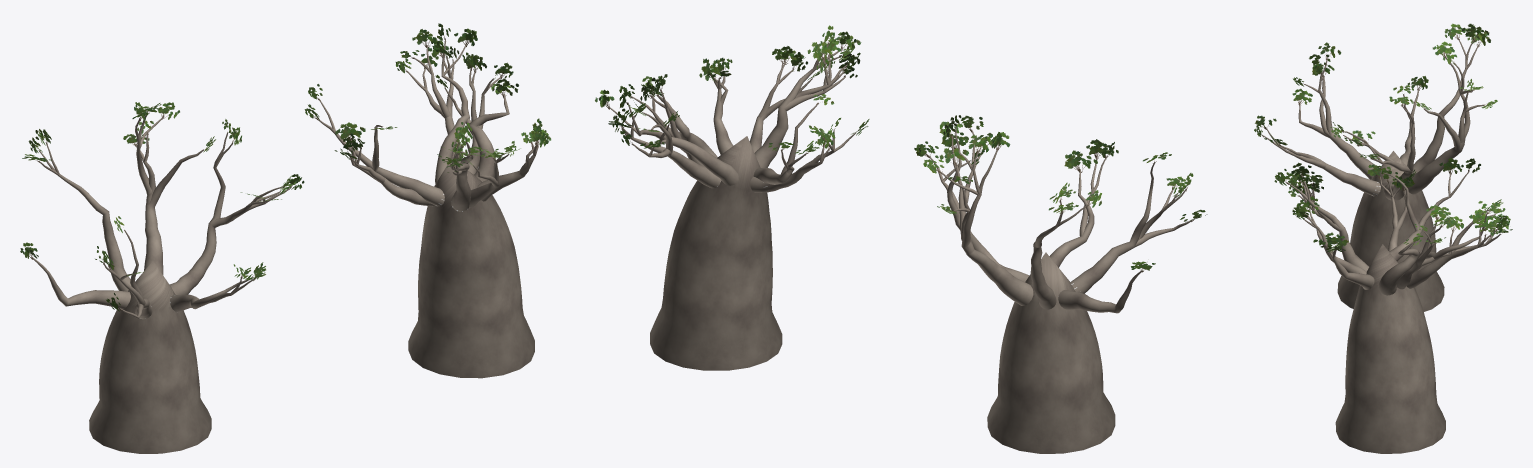
File: baobab.gltf
The picture shows the model from 3 angles, left to right: view 1: azimuth 30°, elevation 25°; view 2: azimuth 150°, elevation 25°; view 3: azimuth 270°, elevation 25°; orthographic projection. The views are drawn at different scales.
Visible parts, largest first — view 1: Baobab2_LOD0, Baobab1_LOD0; view 2: Baobab2_LOD0, Baobab1_LOD0; view 3: Baobab2_LOD0, Baobab1_LOD0.
Boxes of the visible parts, <box> form: Baobab2_LOD0: <box>304,23,551,378</box>; Baobab1_LOD0: <box>20,102,304,453</box>; Baobab2_LOD0: <box>595,25,869,370</box>; Baobab1_LOD0: <box>914,115,1207,453</box>; Baobab2_LOD0: <box>1274,158,1512,453</box>; Baobab1_LOD0: <box>1254,23,1497,311</box>.
Size of what is drawn, in the model's own units: 24.01 by 13.81 by 12.65.
2 materials, 2 textured.
